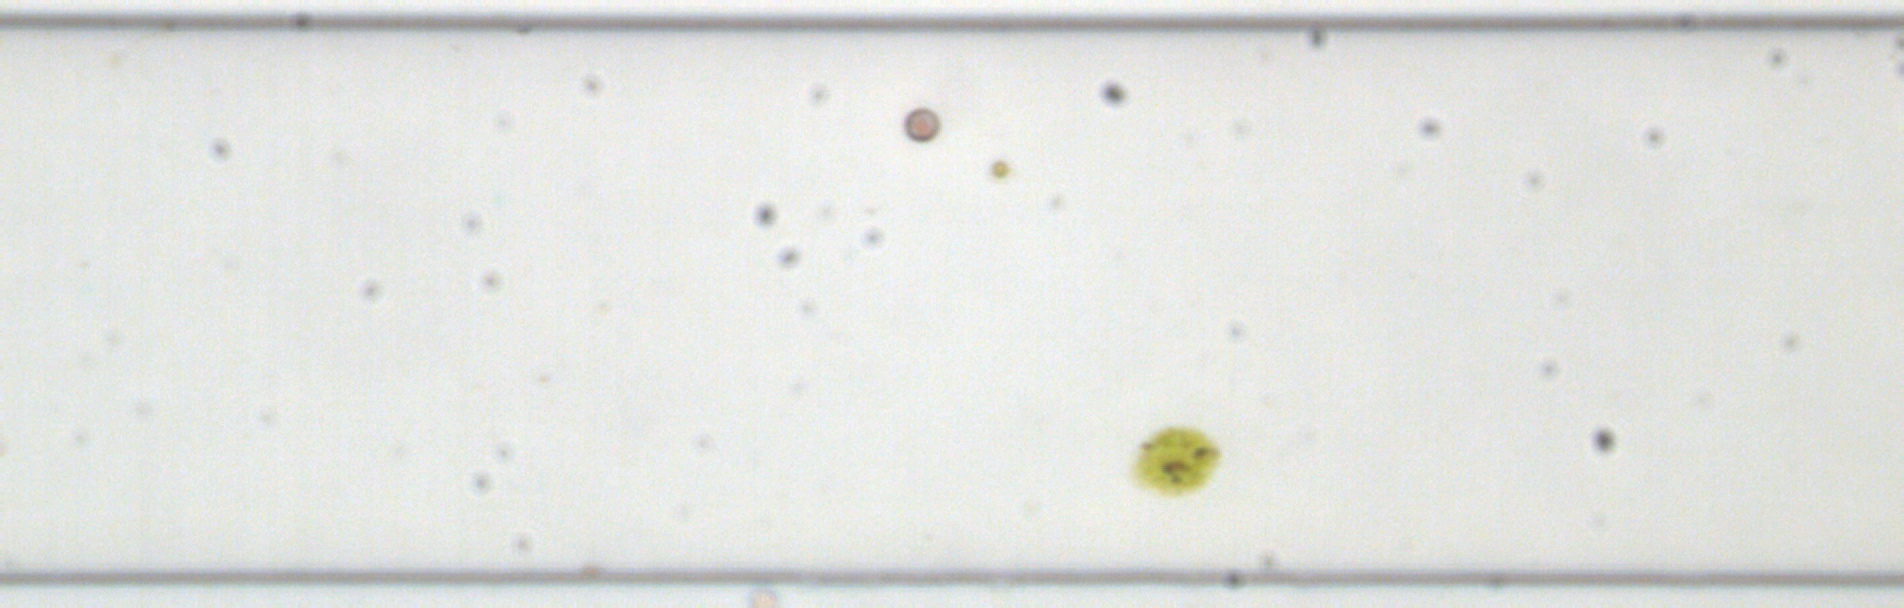Chlorella: (988, 157, 1011, 180)
Haematococcus: (1124, 421, 1225, 499)
Porphyridium: (901, 104, 942, 143)
